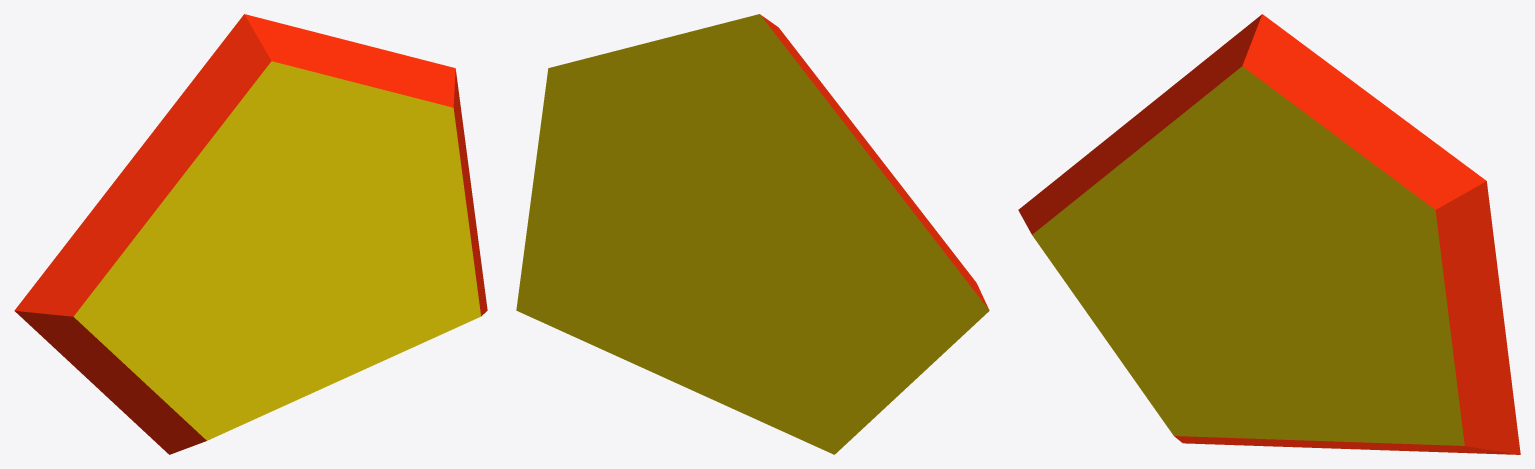
The model's file is RockFlat5.glb.
3 renders of one model, left to right at view 1: azimuth 30°, elevation 25°; view 2: azimuth 150°, elevation 25°; view 3: azimuth 330°, elevation 25°, orthographic. The views are drawn at different scales.
Visible parts, largest first — view 1: RockFlat5; view 2: RockFlat5; view 3: RockFlat5.
Boxes of the visible parts, x1,y1,x2,y2 form: RockFlat5: [14, 14, 487, 454]; RockFlat5: [516, 14, 989, 454]; RockFlat5: [1018, 14, 1520, 454].
Size of the model in its own units: 2.15 by 1.84 by 0.182.
